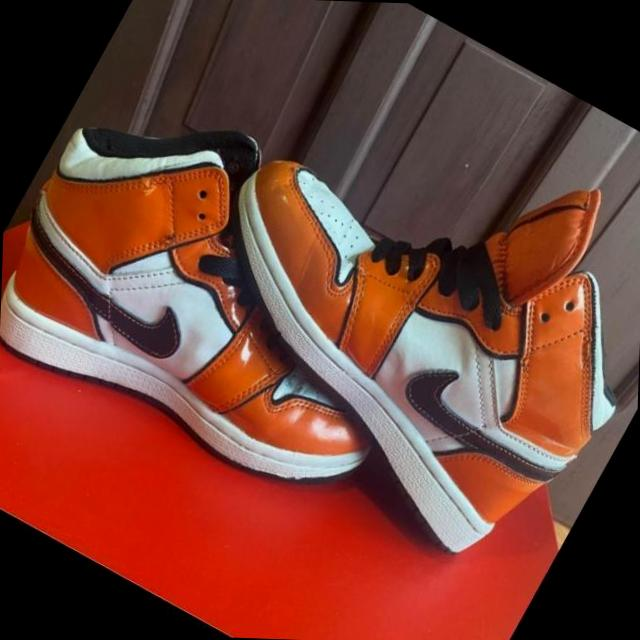nike_fake_jordan: (123, 30, 640, 598), (0, 51, 494, 542)
